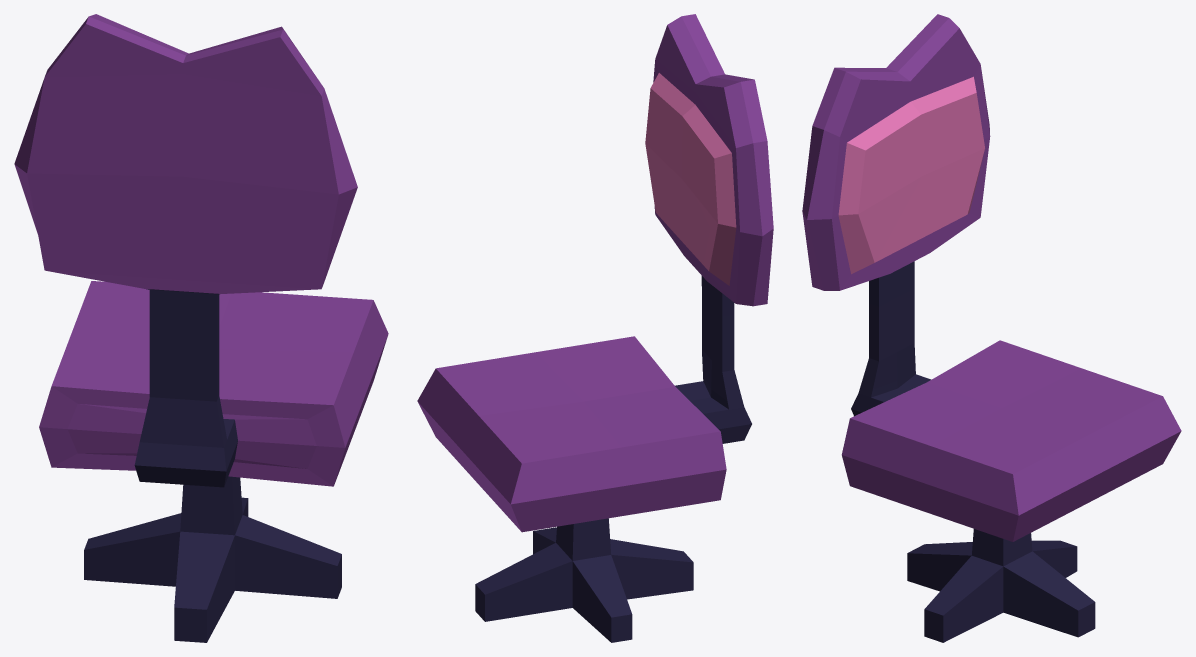
Rendered from Silla_WorkRoom.glb.
The picture shows the model from 3 angles, left to right: view 1: azimuth 30°, elevation 25°; view 2: azimuth 150°, elevation 25°; view 3: azimuth 270°, elevation 25°; orthographic projection. The views are drawn at different scales.
Visible parts, largest first — view 1: Chair_office.001; view 2: Chair_office.001; view 3: Chair_office.001.
Boxes of the visible parts, left/top/right/bottom form: Chair_office.001: left=14, top=14, right=388, bottom=642; Chair_office.001: left=417, top=14, right=773, bottom=642; Chair_office.001: left=802, top=14, right=1181, bottom=642.
Bounding box in the file's own units: 0.6504 × 1 × 0.6545.
Materials: 1 (1 with a texture image).
